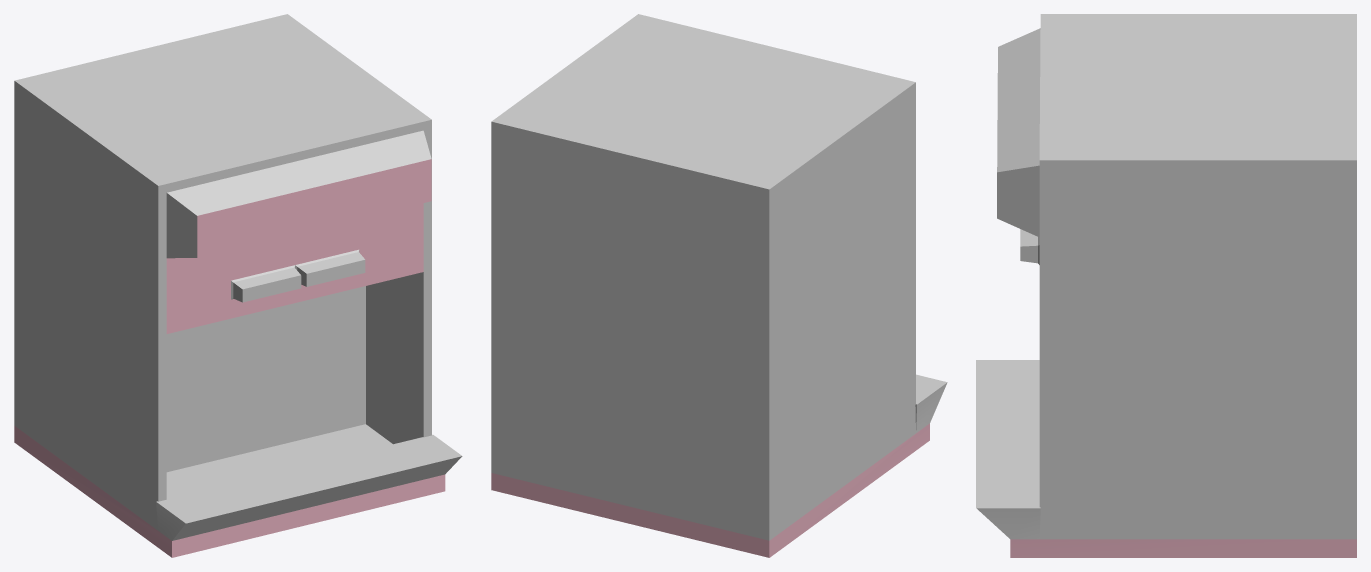
The model's file is ice_machine.fbx.
3 renders of one model, left to right at view 1: azimuth 30°, elevation 25°; view 2: azimuth 150°, elevation 25°; view 3: azimuth 270°, elevation 25°, orthographic. The views are drawn at different scales.
Visible parts, largest first — view 1: pCube1; view 2: pCube1; view 3: pCube1.
Boxes of the visible parts, <box> form: pCube1: <box>14,14,462,557</box>; pCube1: <box>491,14,947,557</box>; pCube1: <box>976,14,1356,557</box>.
Bounding box in the file's own units: 9.9 × 12.38 × 10.74.
